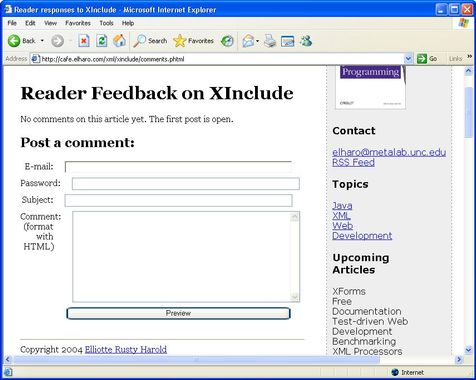_form_: (2, 106, 320, 354), (5, 26, 411, 196)
button: (65, 305, 292, 322)
field: (70, 210, 301, 304), (63, 159, 294, 175), (69, 177, 300, 191), (62, 194, 293, 207)
field_with_label: (21, 209, 302, 307), (29, 50, 406, 64), (24, 157, 295, 175), (20, 176, 302, 192), (20, 192, 294, 208)
